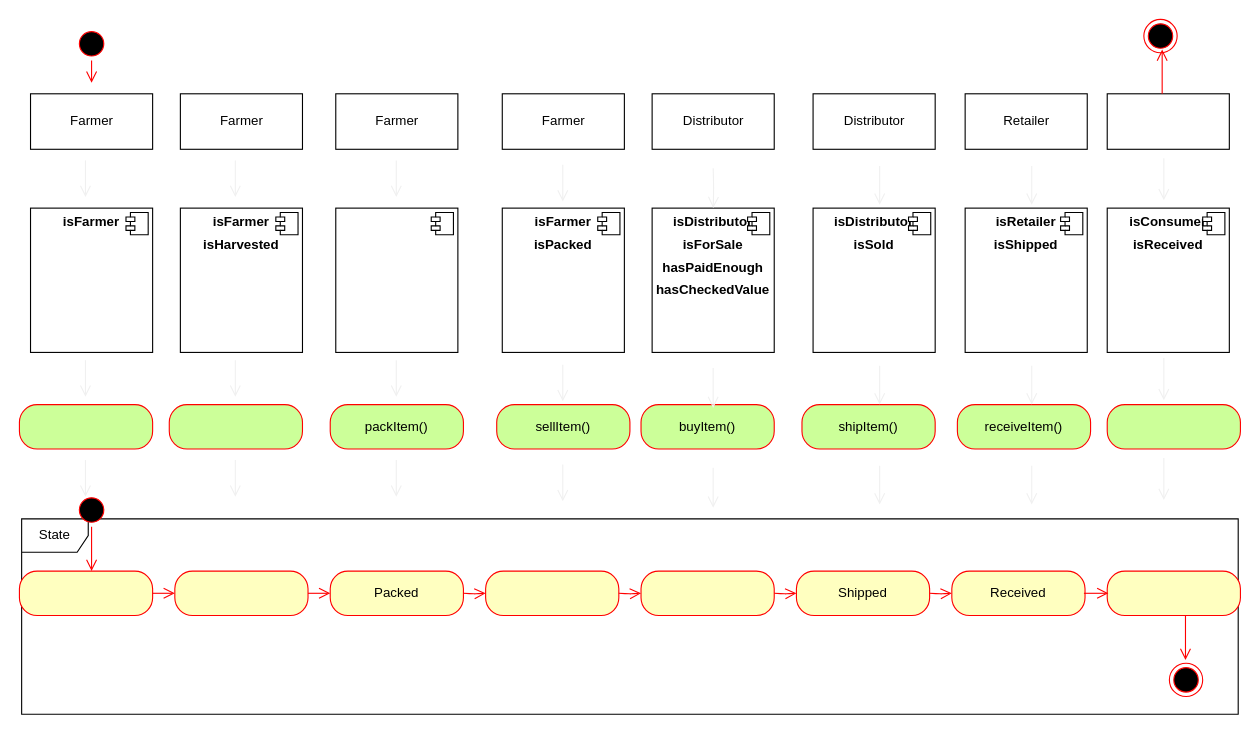
Some shapes in this 1260 by 734 pixel diagram are drawn without their labels. Each missing label, with the box of its shape:
Consumer: (1106, 93, 1229, 149)
ForSale: (485, 570, 619, 615)
Harvested: (18, 570, 153, 615)
harvestItem(): (18, 403, 153, 449)
isFarmer isProcessed: (335, 207, 458, 352)
Processed: (174, 570, 308, 615)
processItem(): (168, 403, 302, 449)
Purchased: (1106, 570, 1240, 615)
purchaseItem(): (1106, 403, 1240, 449)
Sold: (640, 570, 774, 615)
